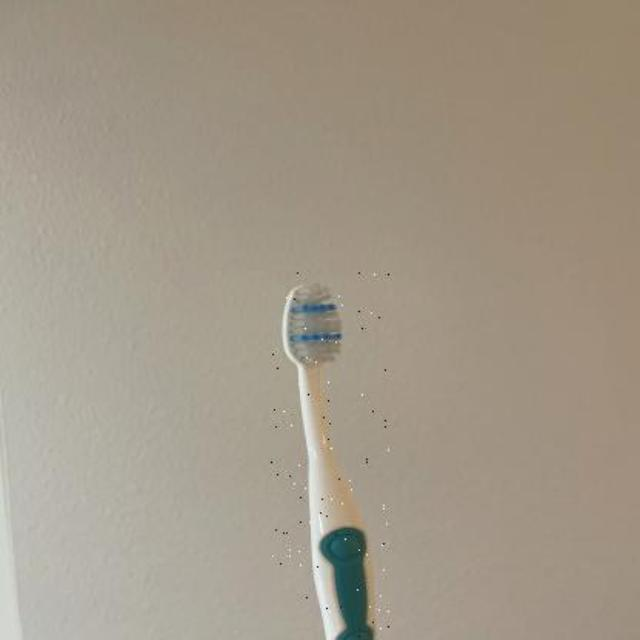toothbrush: (271, 270, 389, 640)
